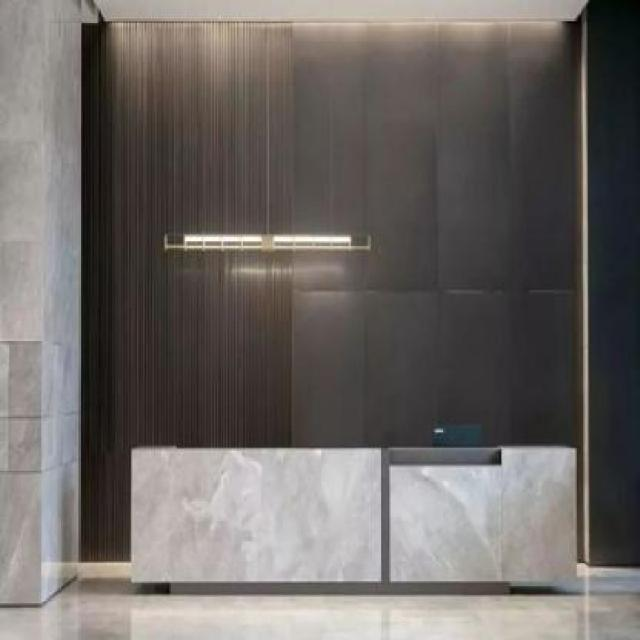frontdesk: (114, 431, 581, 603)
